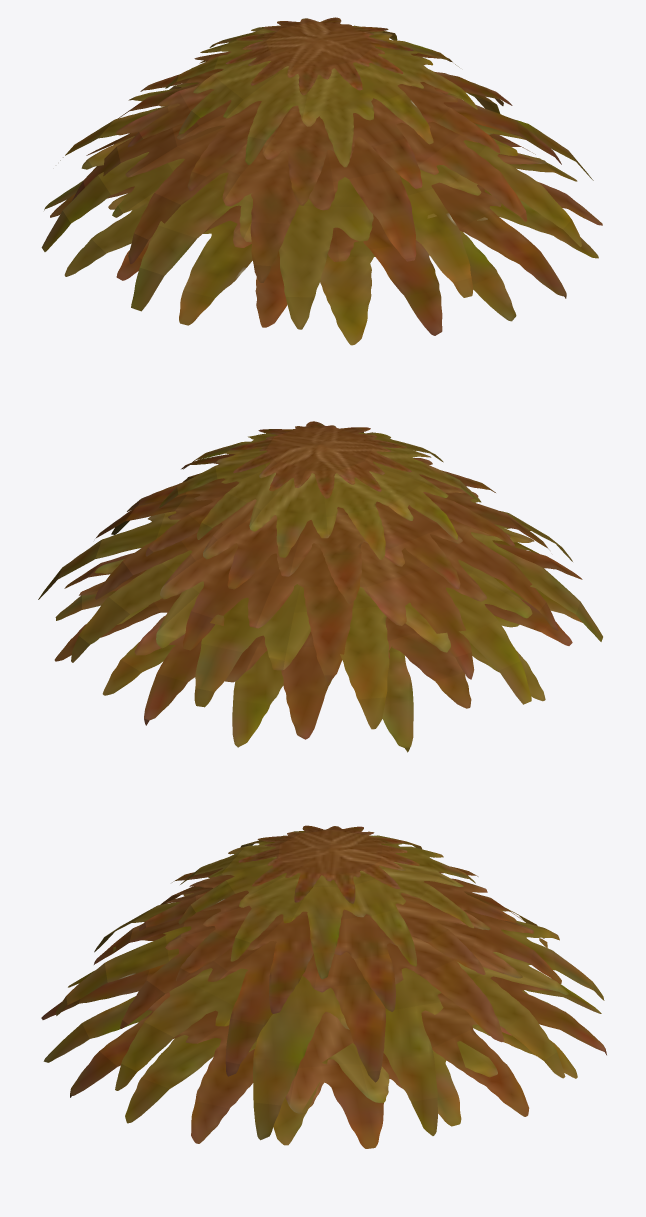
Rendered from Bush07.glb.
3 views of the same model, one above another, from view 1: azimuth 30°, elevation 25°; view 2: azimuth 150°, elevation 25°; view 3: azimuth 270°, elevation 25° (orthographic).
Visible parts, largest first — view 1: Bush07; view 2: Bush07; view 3: Bush07.
Boxes of the visible parts, x1,y1,x2,y2 form: Bush07: (41,17,602,345); Bush07: (38,421,602,752); Bush07: (41,825,606,1148).
Size of the model in its own units: 1.95 by 0.7855 by 1.96.
1 material, 1 textured.
